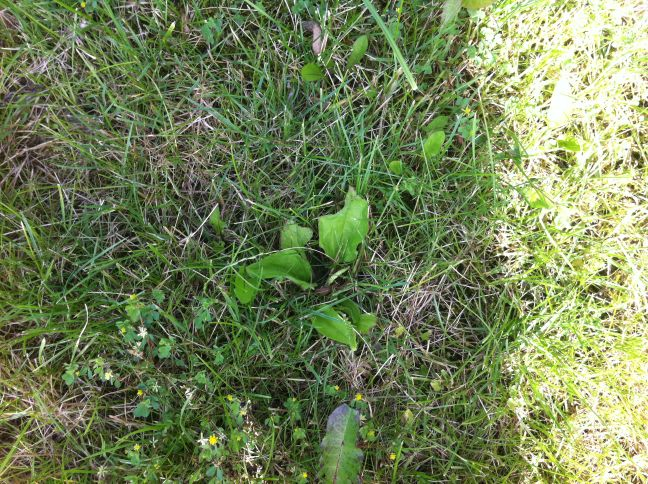weed1: (216, 187, 383, 350)
